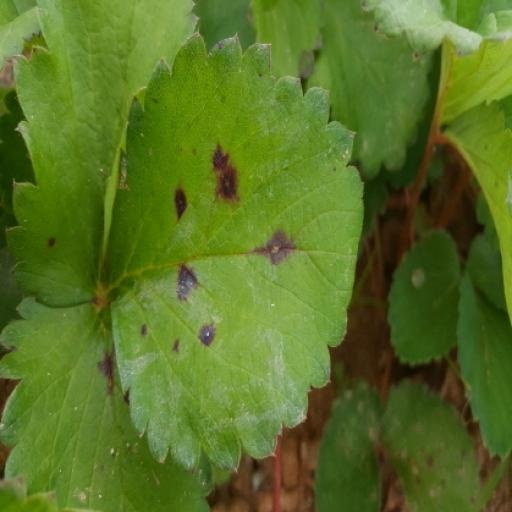Leaf Spot: (145, 30, 412, 474), (310, 0, 507, 309), (287, 295, 511, 511), (26, 378, 133, 511)
